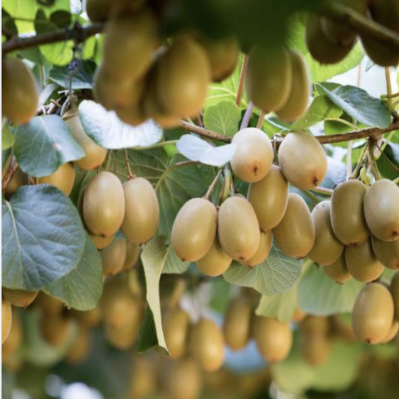kiwi: (326, 172, 381, 259), (170, 181, 223, 269), (113, 170, 166, 246), (278, 128, 332, 196), (209, 189, 261, 259), (350, 276, 398, 348), (82, 167, 125, 244)
